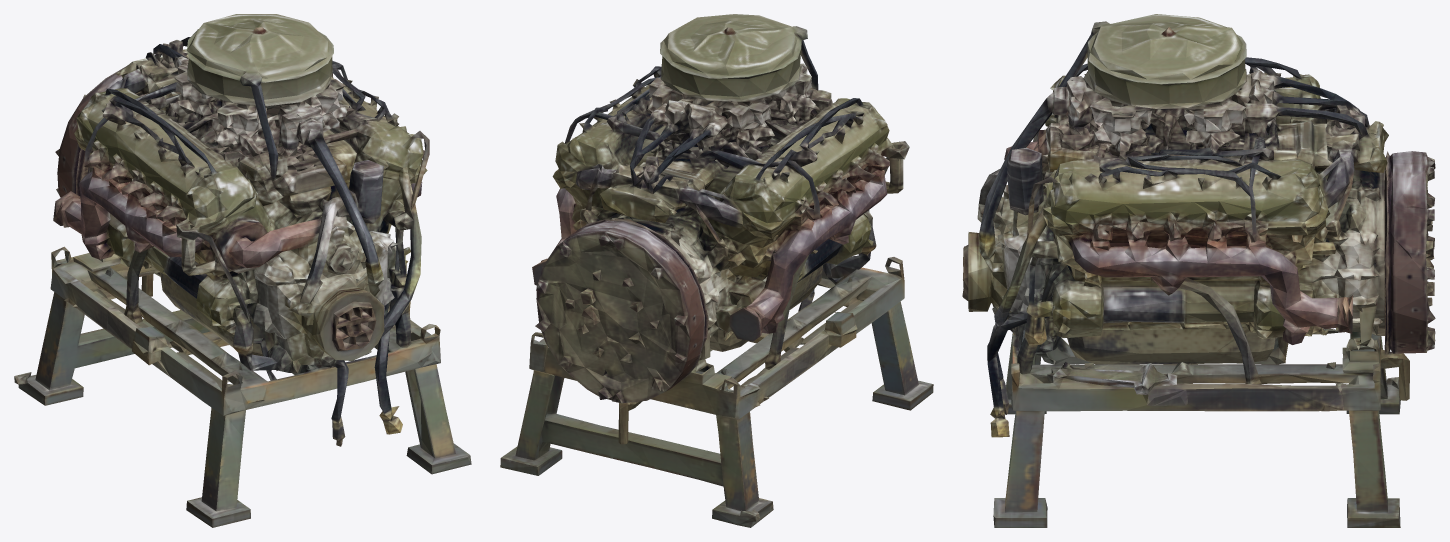
The model's file is engine_v8.obj.
The picture shows the model from 3 angles, left to right: view 1: azimuth 30°, elevation 25°; view 2: azimuth 150°, elevation 25°; view 3: azimuth 270°, elevation 25°; orthographic projection. The views are drawn at different scales.
Visible parts, largest first — view 1: engine_v8; view 2: engine_v8; view 3: engine_v8.
Boxes of the visible parts, box(x1,y1,x2,y2) form: engine_v8: box(14, 14, 471, 527); engine_v8: box(500, 14, 933, 527); engine_v8: box(962, 14, 1435, 527).
Size of the model in its own units: 0.943 by 1.36 by 1.35.
Materials: 1 (1 with a texture image).
